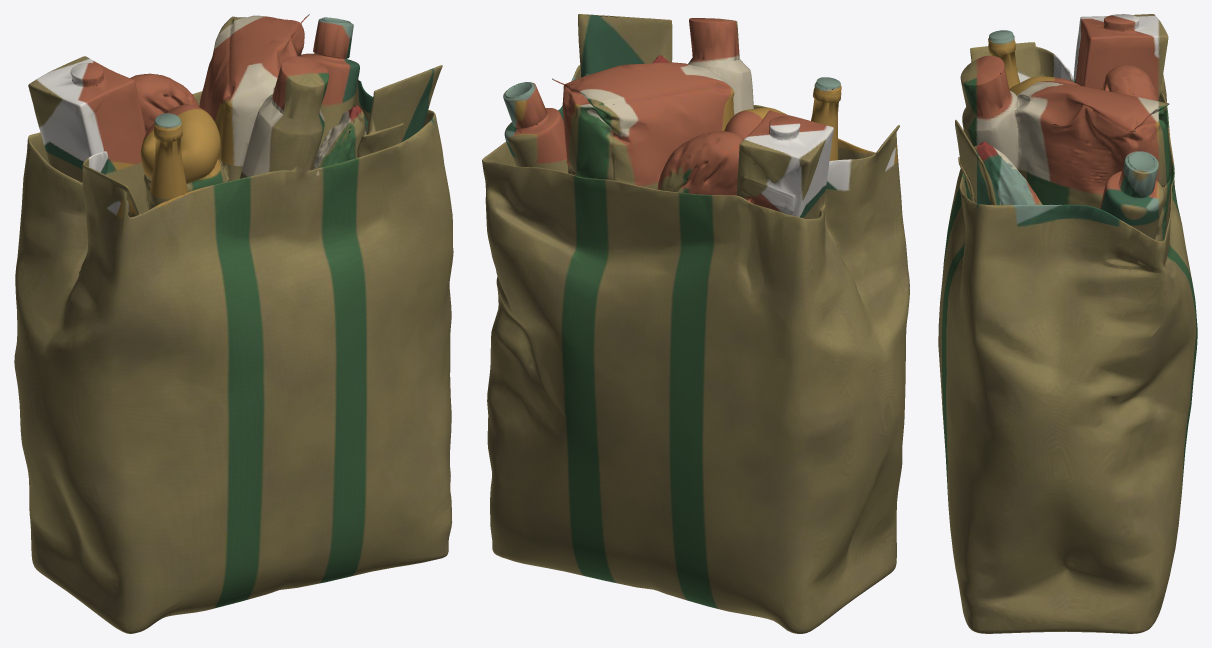
File: tote.gltf
3 renders of one model, left to right at view 1: azimuth 30°, elevation 25°; view 2: azimuth 150°, elevation 25°; view 3: azimuth 270°, elevation 25°, orthographic. The views are drawn at different scales.
Visible parts, largest first — view 1: tote; view 2: tote; view 3: tote.
Part boxes in pixels (x1,y1,x2,y2): tote: (14,14,453,633); tote: (482,14,909,633); tote: (938,14,1197,633).
Size of the model in its own units: 1.49 by 1.9 by 0.8844.
Materials: 1 (1 with a texture image).
